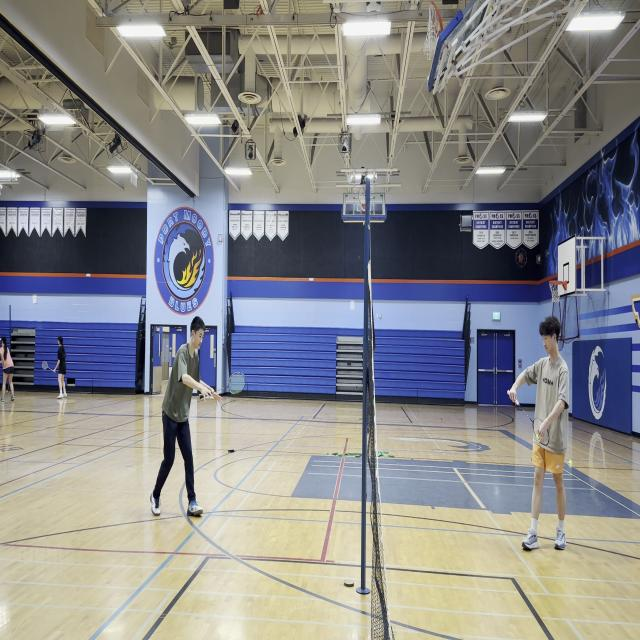shuttlecock: (536, 433, 542, 442)
